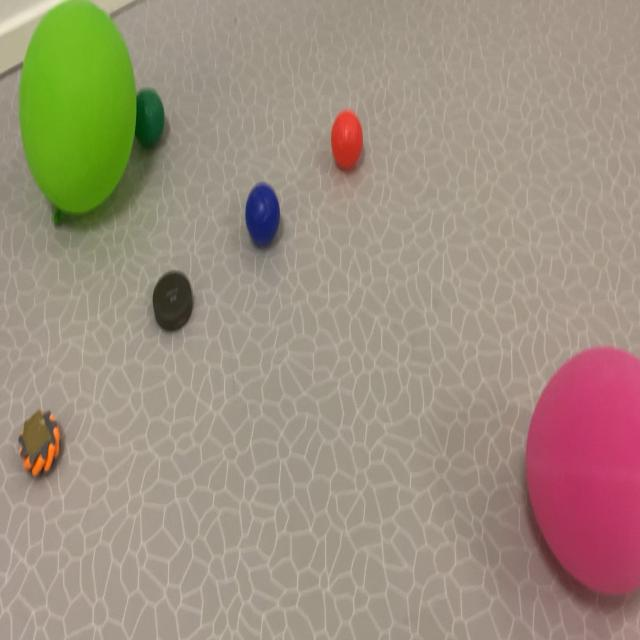7: (321, 97, 382, 205)
blue ball: (129, 68, 376, 287)
green ball: (230, 175, 300, 280)
red ball: (132, 73, 192, 189)
